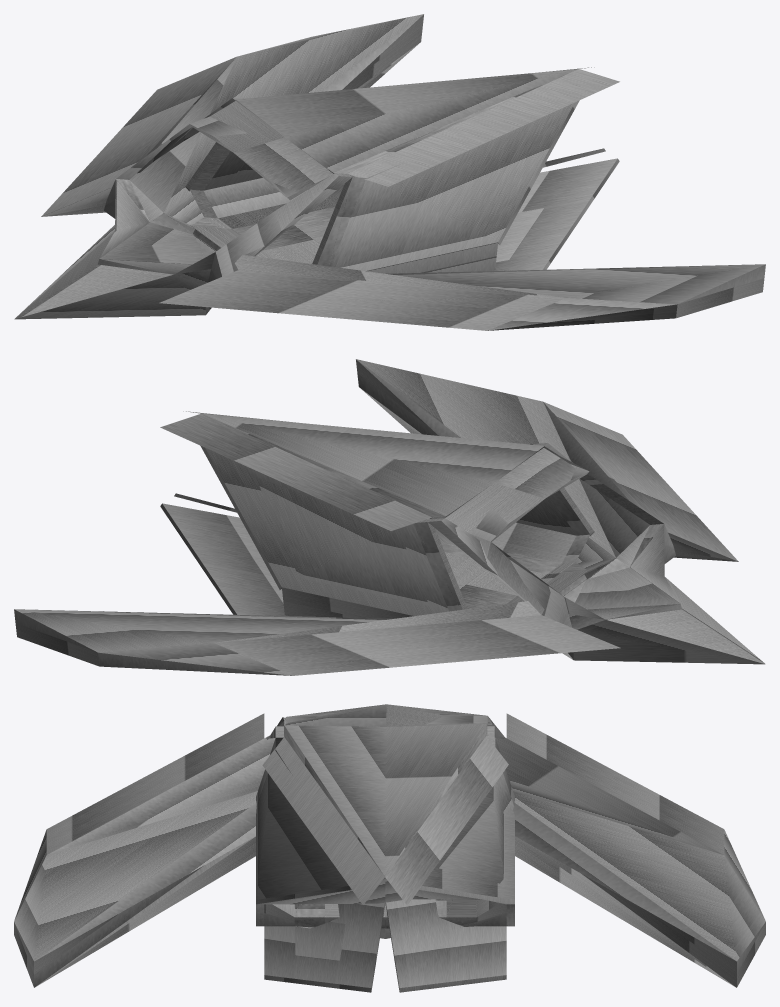
The model's file is naveInterna3wtxt.obj.
3 views of the same model, one above another, from view 1: azimuth 30°, elevation 25°; view 2: azimuth 150°, elevation 25°; view 3: azimuth 270°, elevation 25° (orthographic). The views are drawn at different scales.
Visible parts, largest first — view 1: Nave_Cube.001; view 2: Nave_Cube.001; view 3: Nave_Cube.001.
Part boxes in pixels (x1,y1,x2,y2): Nave_Cube.001: (14, 14, 765, 330); Nave_Cube.001: (14, 359, 765, 675); Nave_Cube.001: (14, 704, 765, 992).
Bounding box in the file's own units: 16.83 × 4.16 × 17.8.
Materials: 1 (1 with a texture image).
